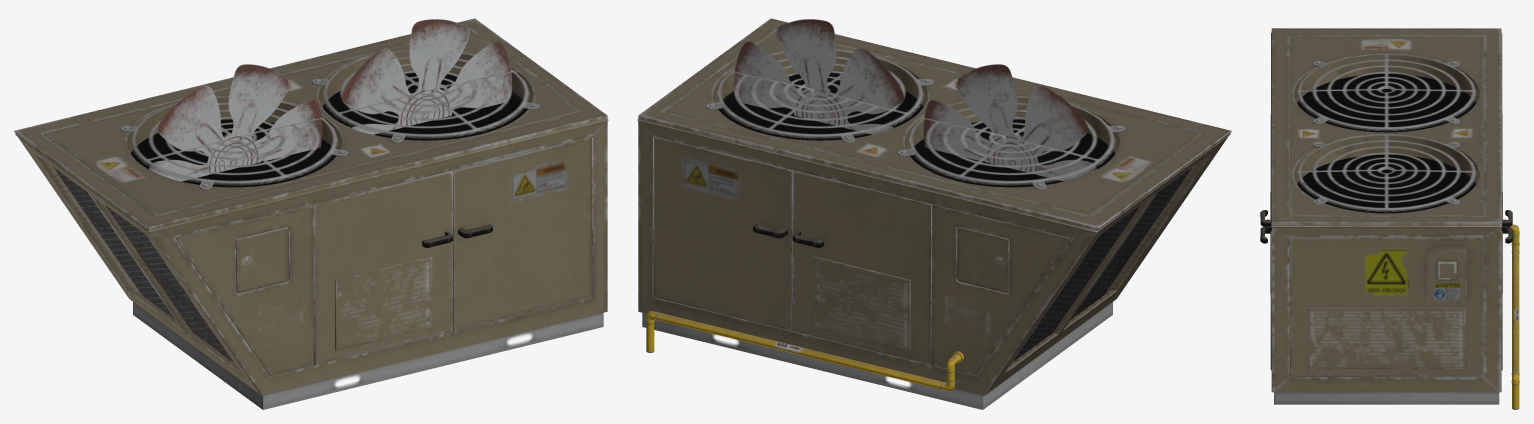
The model's file is hvac-unit-0bf1ac.glb.
3 renders of one model, left to right at view 1: azimuth 30°, elevation 25°; view 2: azimuth 150°, elevation 25°; view 3: azimuth 270°, elevation 25°, orthographic. The views are drawn at different scales.
Visible parts, largest first — view 1: PropMesh; view 2: PropMesh; view 3: PropMesh.
Boxes of the visible parts, bbox=[...] form: PropMesh: bbox=[14, 18, 608, 409]; PropMesh: bbox=[637, 18, 1231, 409]; PropMesh: bbox=[1260, 28, 1519, 409].
Size of the model in its own units: 3.58 by 2.2 by 1.95.
3 materials, 3 textured.
